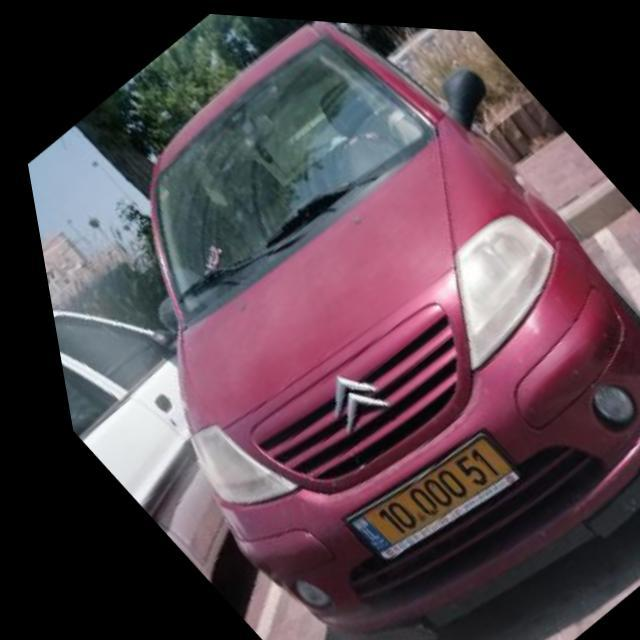license_plate: (310, 404, 522, 584)
